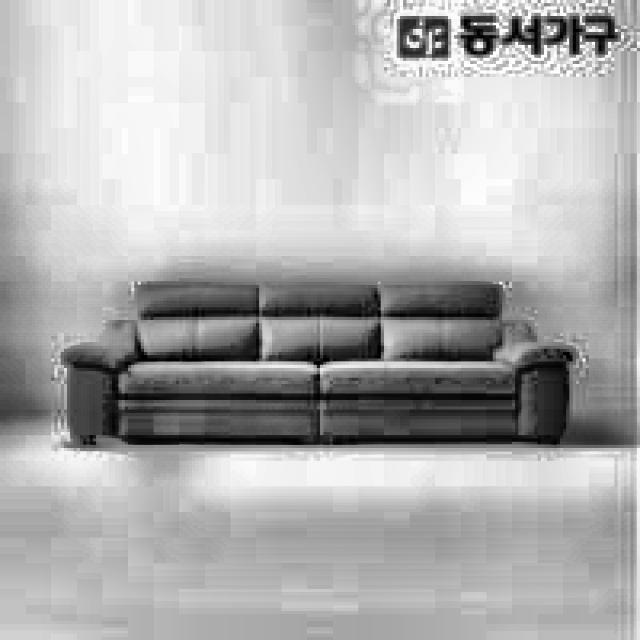sofa: (48, 275, 595, 442)
